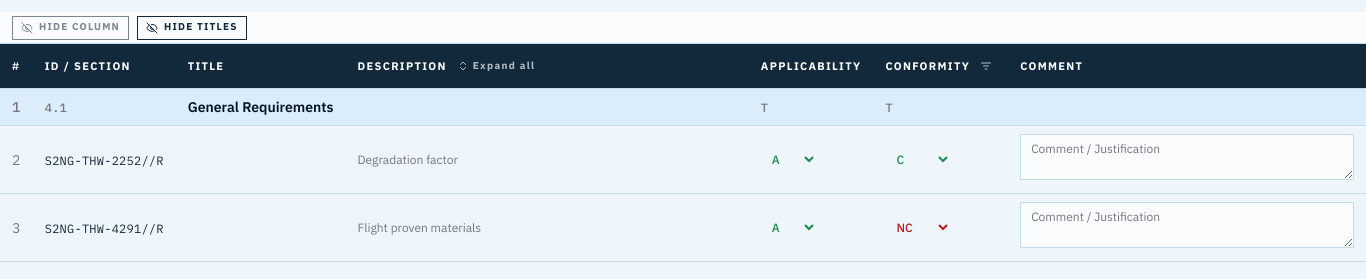
Scenario: NodeTable › hides and shows all the title rows
The image size is (1366, 279).
Expected: the text "General Requirements" is shown, [188,98,334,116]
Click the button "Hide titles" at (192, 28), box [137,16,247,40]
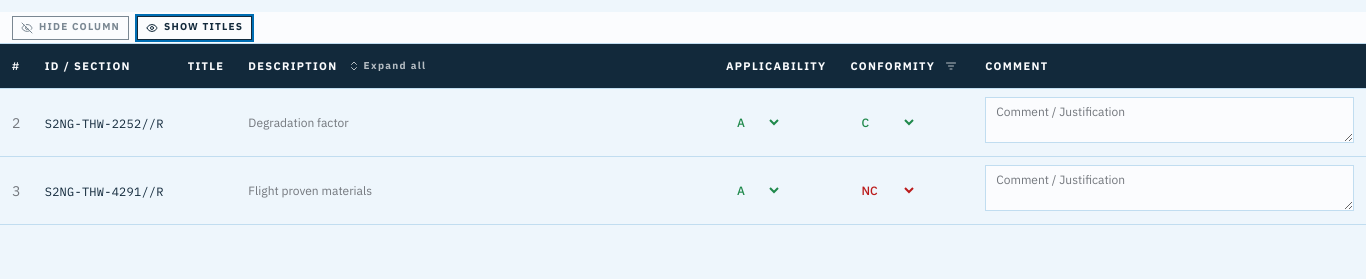
Expected: the text "S2NG-THW-2252//R" is shown, [45,116,164,130]
Expected: the text "General Requirements" is gone
Click the button "Show titles" at (195, 28), box [137,16,252,40]
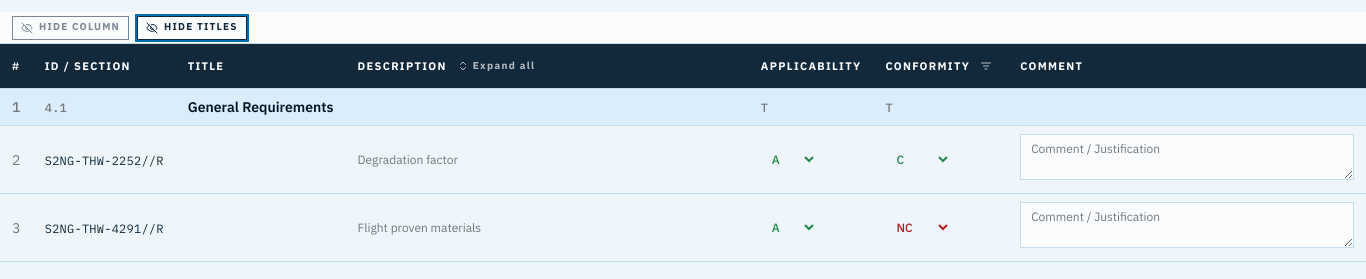
Expected: the text "General Requirements" is shown, [188,98,334,116]
